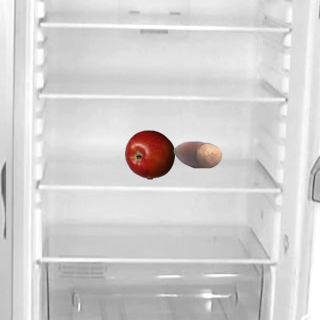Apple Braeburn: (124, 129, 174, 179)
Hazelnut: (172, 129, 222, 179)
